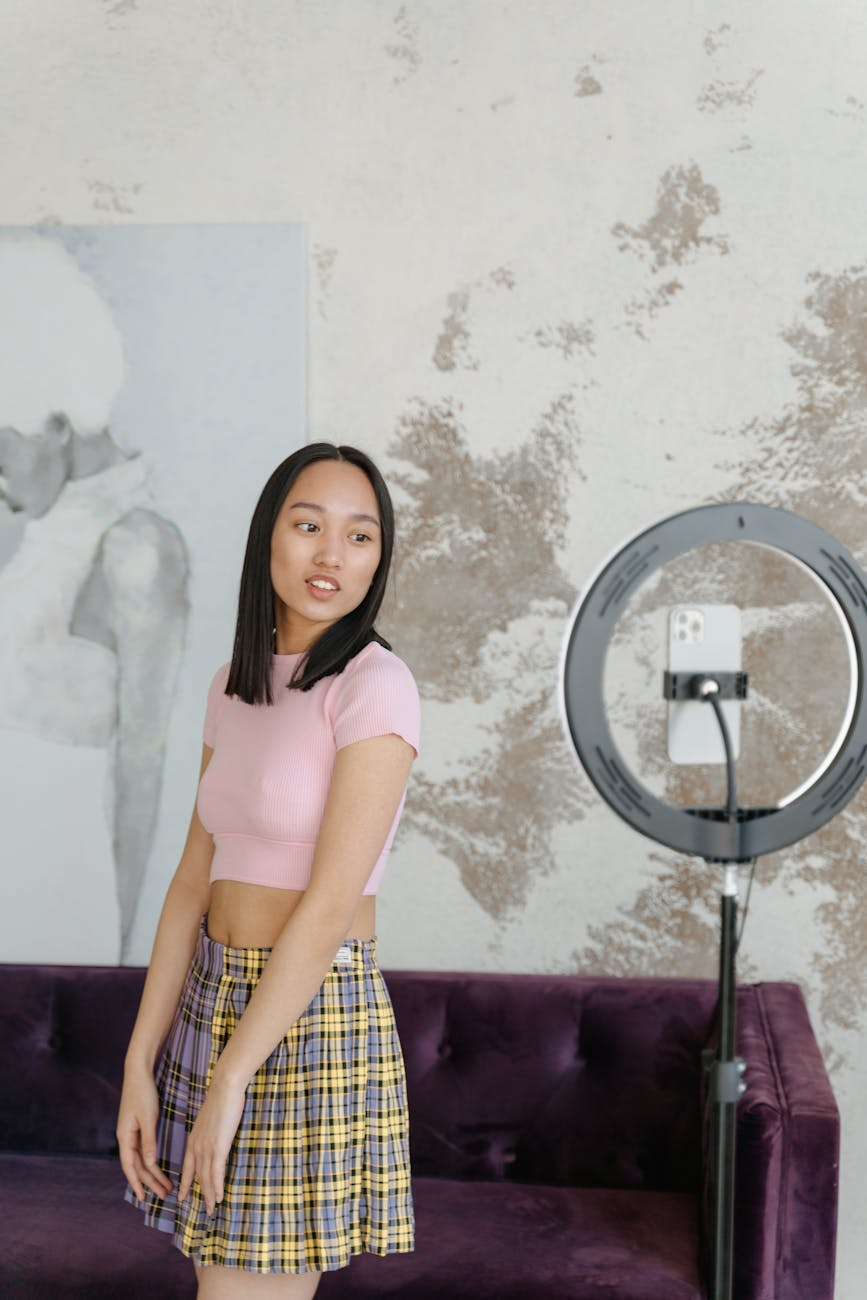crop_top: (177, 640, 403, 894)
short_medium_skirt: (139, 933, 439, 1272)
